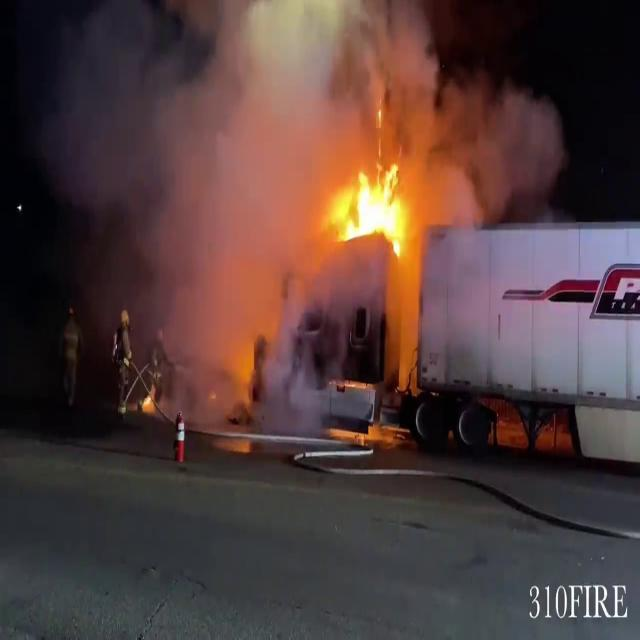Fire: (330, 152, 412, 258)
Smoke: (50, 0, 359, 341)
